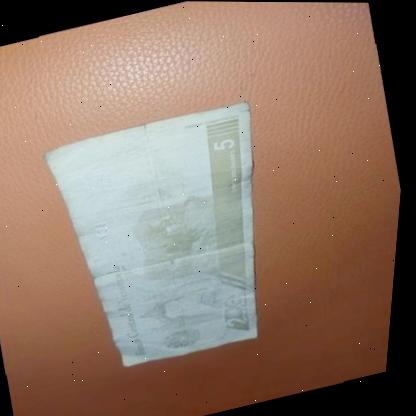vef_back: (29, 97, 306, 380)
